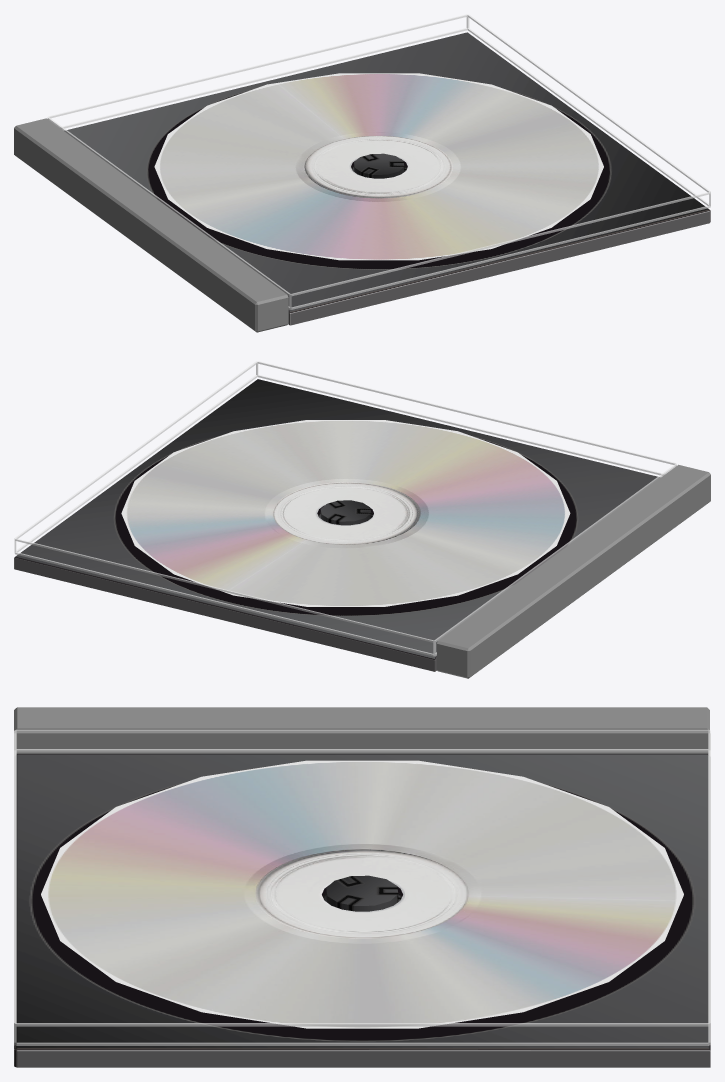
The model's file is Case De CD.glb.
3 views of the same model, one above another, from view 1: azimuth 30°, elevation 25°; view 2: azimuth 150°, elevation 25°; view 3: azimuth 270°, elevation 25° (orthographic). The views are drawn at different scales.
Parts seen in each view (by area): view 1: b086f04d-44ee-40f1-9ab7-083b8dc8e12c, 4d43d871-7e50-4297-ae9b-4cf9e4840278, 077e72ff-678e-405e-8ec2-e1484373d64b, 257ed29e-1db9-4e3c-8747-88e039a84b8a, 257ed29e-1db9-4e3c-8747-88e039a84b8a_0; view 2: b086f04d-44ee-40f1-9ab7-083b8dc8e12c, 4d43d871-7e50-4297-ae9b-4cf9e4840278, 077e72ff-678e-405e-8ec2-e1484373d64b, 257ed29e-1db9-4e3c-8747-88e039a84b8a, 257ed29e-1db9-4e3c-8747-88e039a84b8a_0; view 3: b086f04d-44ee-40f1-9ab7-083b8dc8e12c, 4d43d871-7e50-4297-ae9b-4cf9e4840278, 077e72ff-678e-405e-8ec2-e1484373d64b, 257ed29e-1db9-4e3c-8747-88e039a84b8a, 257ed29e-1db9-4e3c-8747-88e039a84b8a_0.
Boxes of the visible parts, x1=… form: b086f04d-44ee-40f1-9ab7-083b8dc8e12c: x1=154, y1=73, x2=603, y2=260; 4d43d871-7e50-4297-ae9b-4cf9e4840278: x1=64, y1=32, x2=710, y2=325; 077e72ff-678e-405e-8ec2-e1484373d64b: x1=14, y1=118, x2=288, y2=332; 257ed29e-1db9-4e3c-8747-88e039a84b8a: x1=48, y1=14, x2=710, y2=309; 257ed29e-1db9-4e3c-8747-88e039a84b8a_0: x1=48, y1=14, x2=710, y2=309; b086f04d-44ee-40f1-9ab7-083b8dc8e12c: x1=121, y1=420, x2=570, y2=606; 4d43d871-7e50-4297-ae9b-4cf9e4840278: x1=14, y1=379, x2=660, y2=671; 077e72ff-678e-405e-8ec2-e1484373d64b: x1=437, y1=464, x2=710, y2=678; 257ed29e-1db9-4e3c-8747-88e039a84b8a: x1=15, y1=361, x2=676, y2=655; 257ed29e-1db9-4e3c-8747-88e039a84b8a_0: x1=15, y1=361, x2=676, y2=655; b086f04d-44ee-40f1-9ab7-083b8dc8e12c: x1=41, y1=760, x2=683, y2=1028; 4d43d871-7e50-4297-ae9b-4cf9e4840278: x1=14, y1=754, x2=710, y2=1067; 077e72ff-678e-405e-8ec2-e1484373d64b: x1=14, y1=707, x2=709, y2=754; 257ed29e-1db9-4e3c-8747-88e039a84b8a: x1=14, y1=730, x2=710, y2=1045; 257ed29e-1db9-4e3c-8747-88e039a84b8a_0: x1=14, y1=730, x2=710, y2=1045.
Size of the model in its own units: 0.1405 by 0.009 by 0.13.
4 materials, 2 textured.
